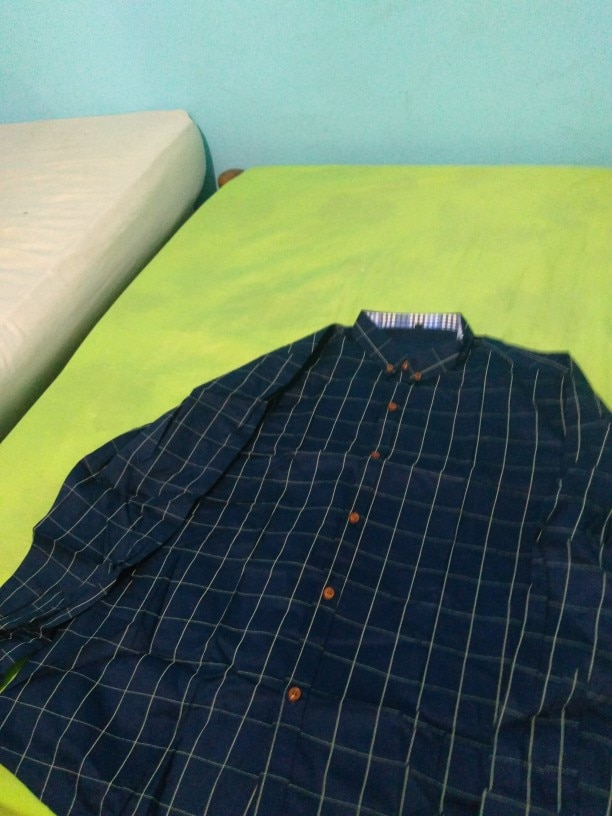shirts: (49, 323, 612, 783)
